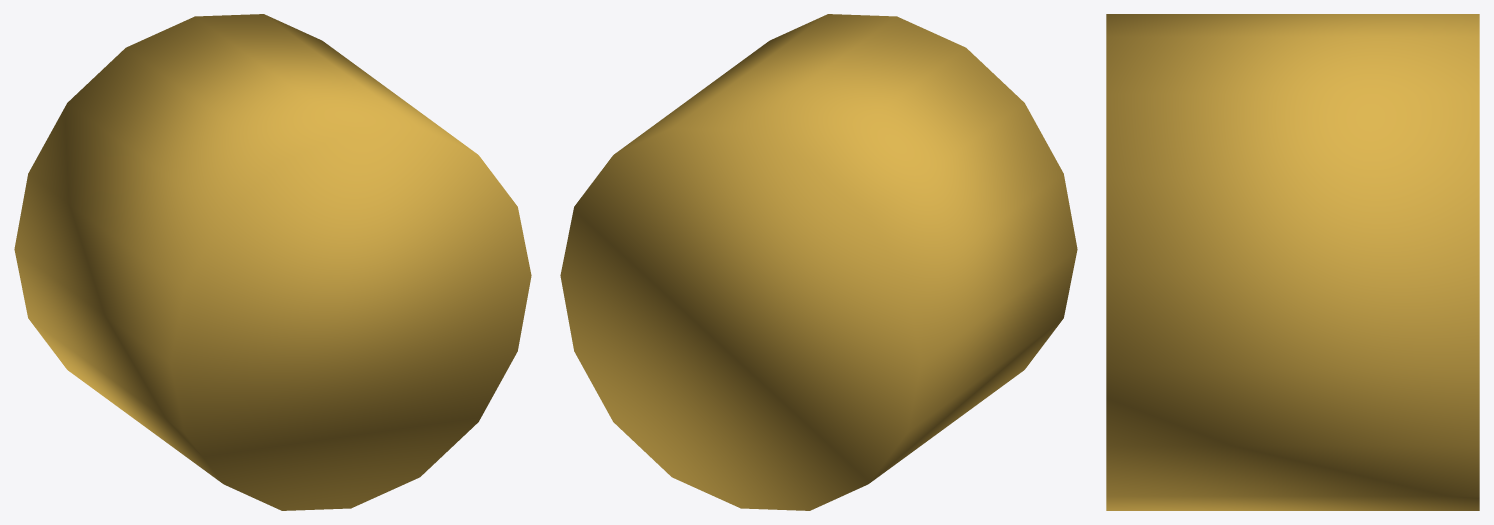
File: haybale.glb
3 renders of one model, left to right at view 1: azimuth 30°, elevation 25°; view 2: azimuth 150°, elevation 25°; view 3: azimuth 270°, elevation 25°, orthographic. The views are drawn at different scales.
Visible parts, largest first — view 1: haybale; view 2: haybale; view 3: haybale.
Boxes of the visible parts, box(x1,y1,x2,y2) form: haybale: box(14, 14, 531, 510); haybale: box(560, 14, 1077, 510); haybale: box(1106, 14, 1479, 510).
Size of the model in its own units: 1.6 by 1.6 by 1.2.
